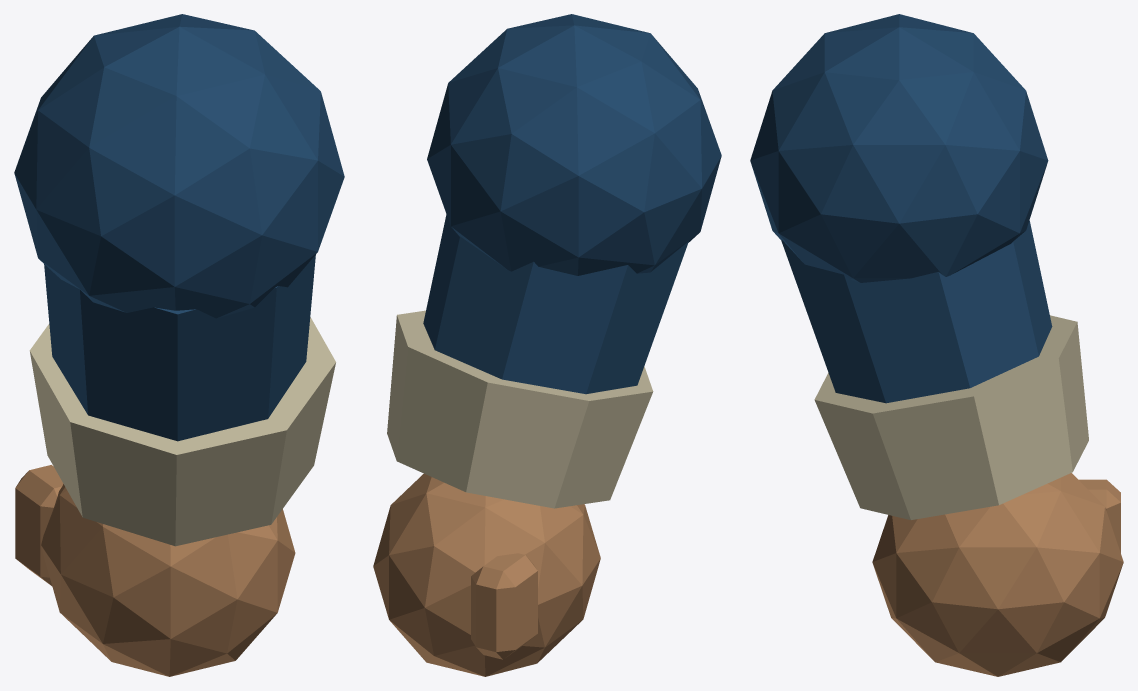
File: ForearmRight.glb
3 renders of one model, left to right at view 1: azimuth 30°, elevation 25°; view 2: azimuth 150°, elevation 25°; view 3: azimuth 270°, elevation 25°, orthographic. The views are drawn at different scales.
Parts seen in each view (by area): view 1: Sculpture; view 2: Sculpture; view 3: Sculpture.
Boxes of the visible parts, x1,y1,x2,y2 form: Sculpture: (14, 14, 344, 676); Sculpture: (373, 14, 721, 676); Sculpture: (750, 14, 1123, 676).
Size of the model in its own units: 0.1743 by 0.382 by 0.208.
